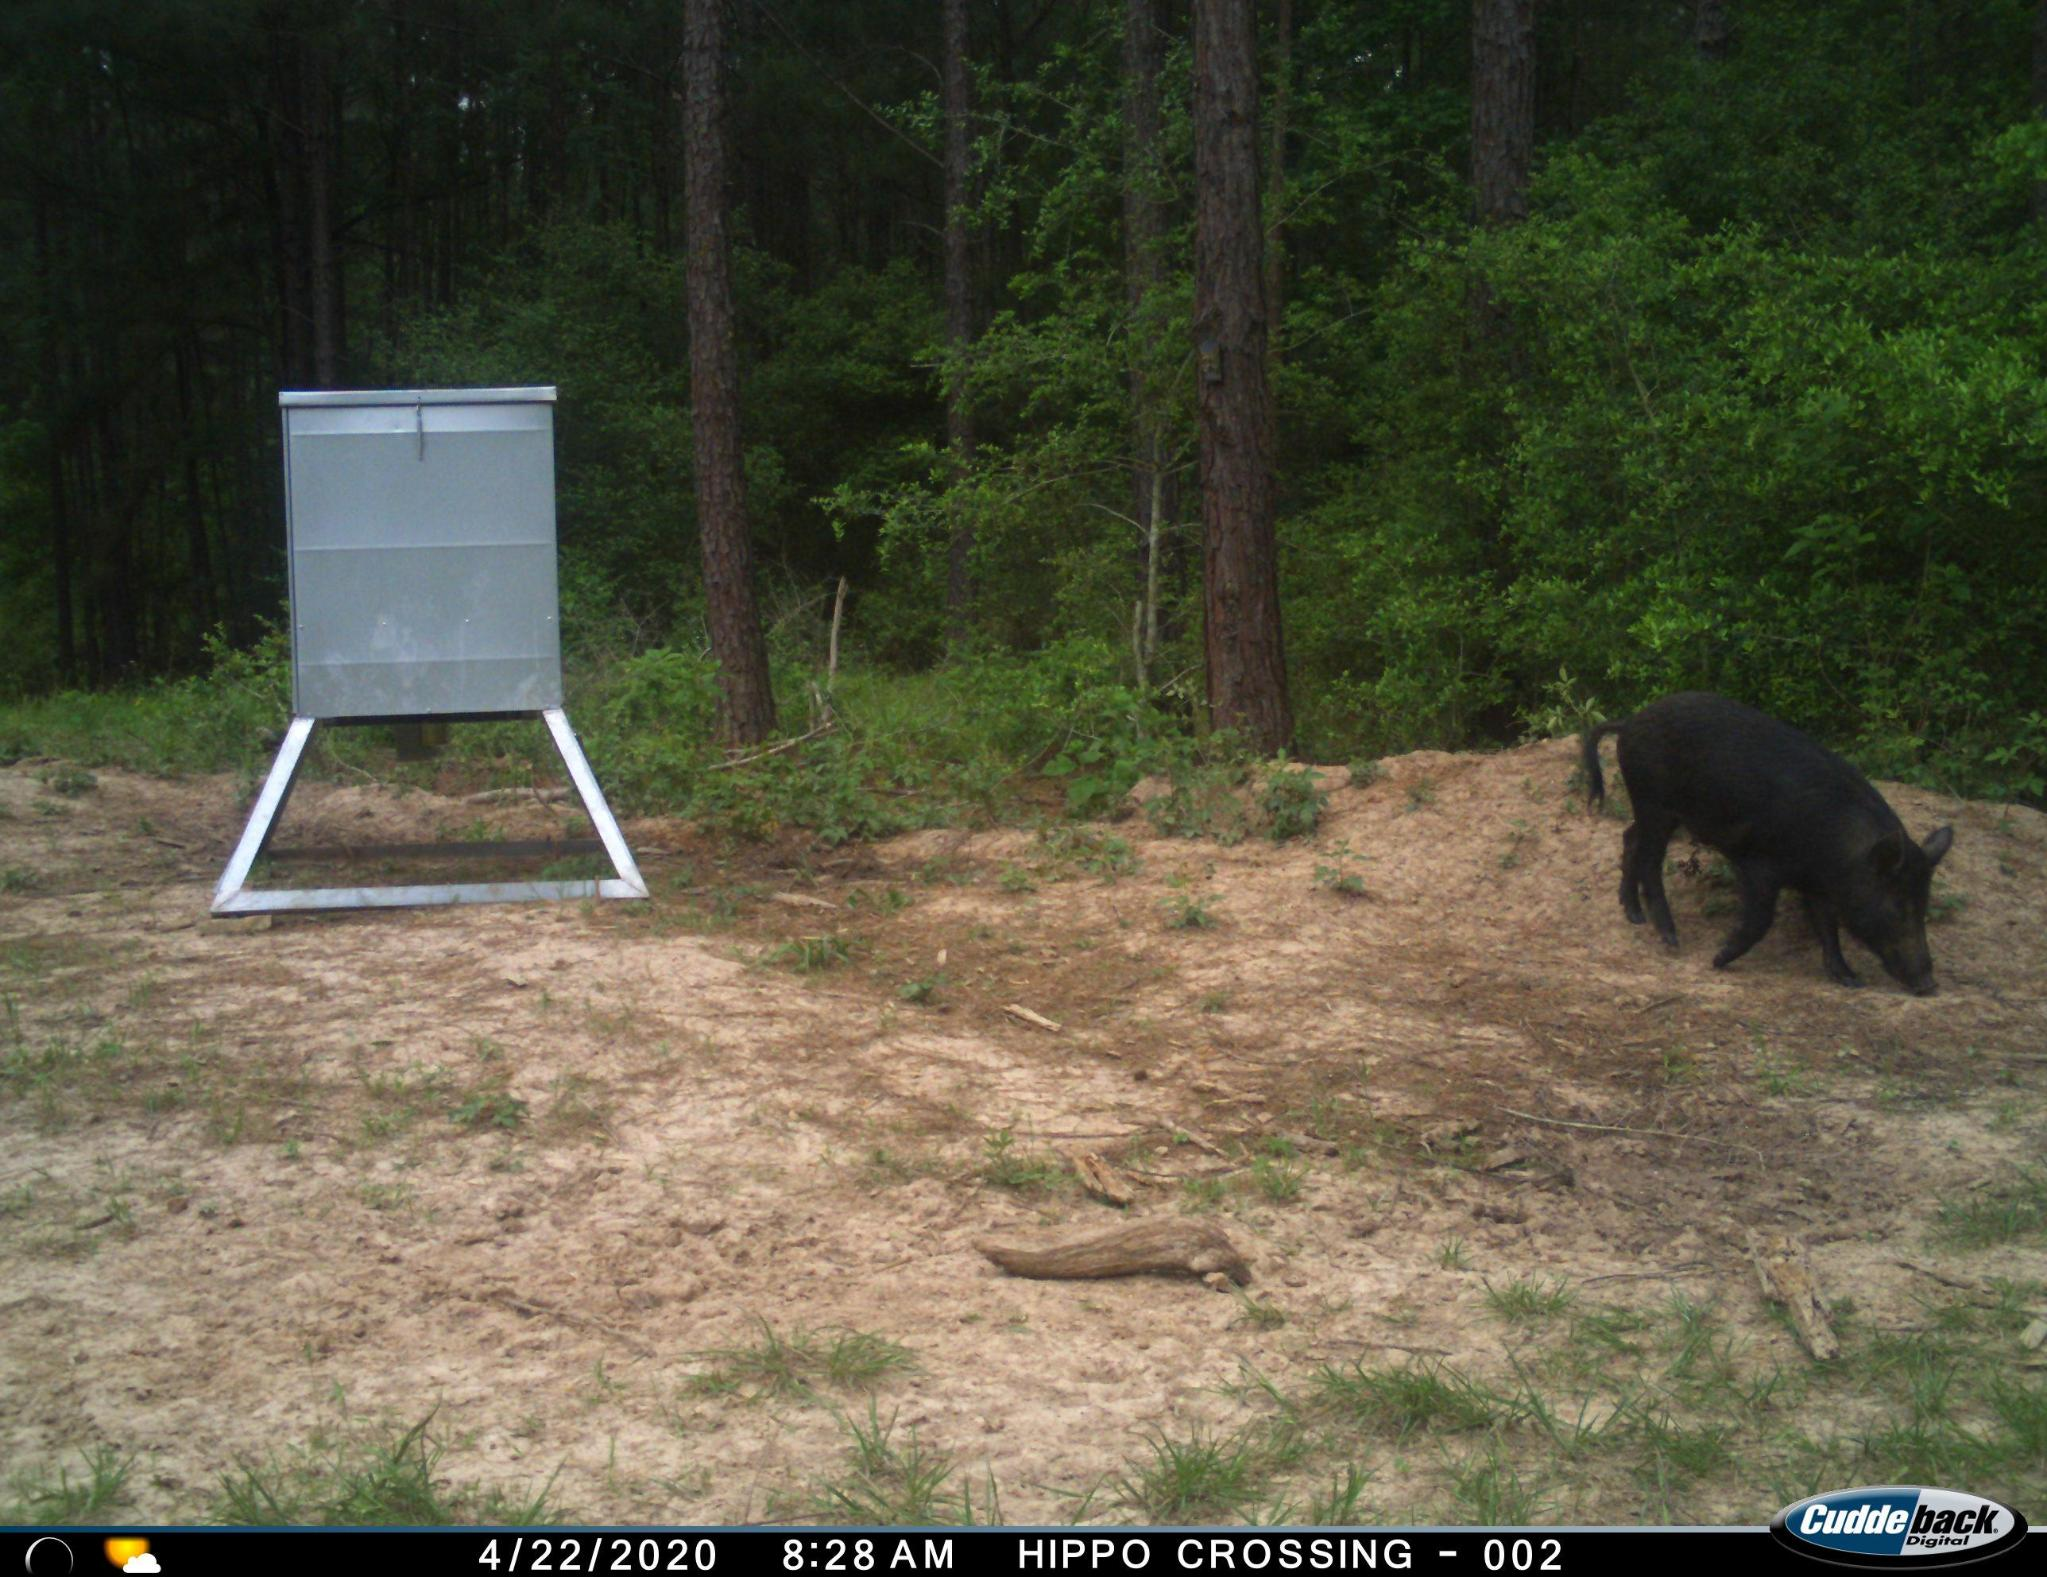Hog: (1573, 679, 1963, 999)
